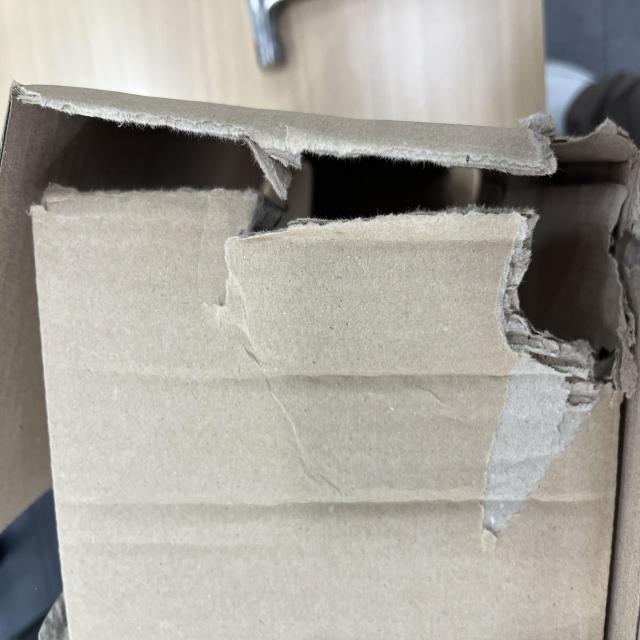damaged: (203, 510, 379, 640)
